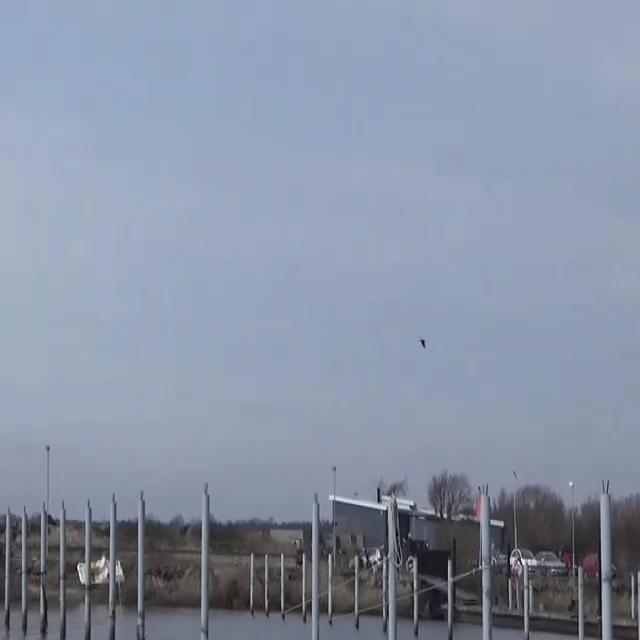bird: (417, 336, 428, 350)
